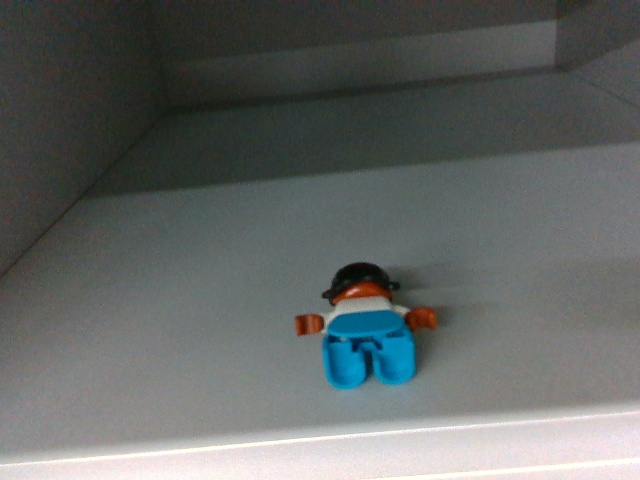people: (294, 262, 438, 393)
